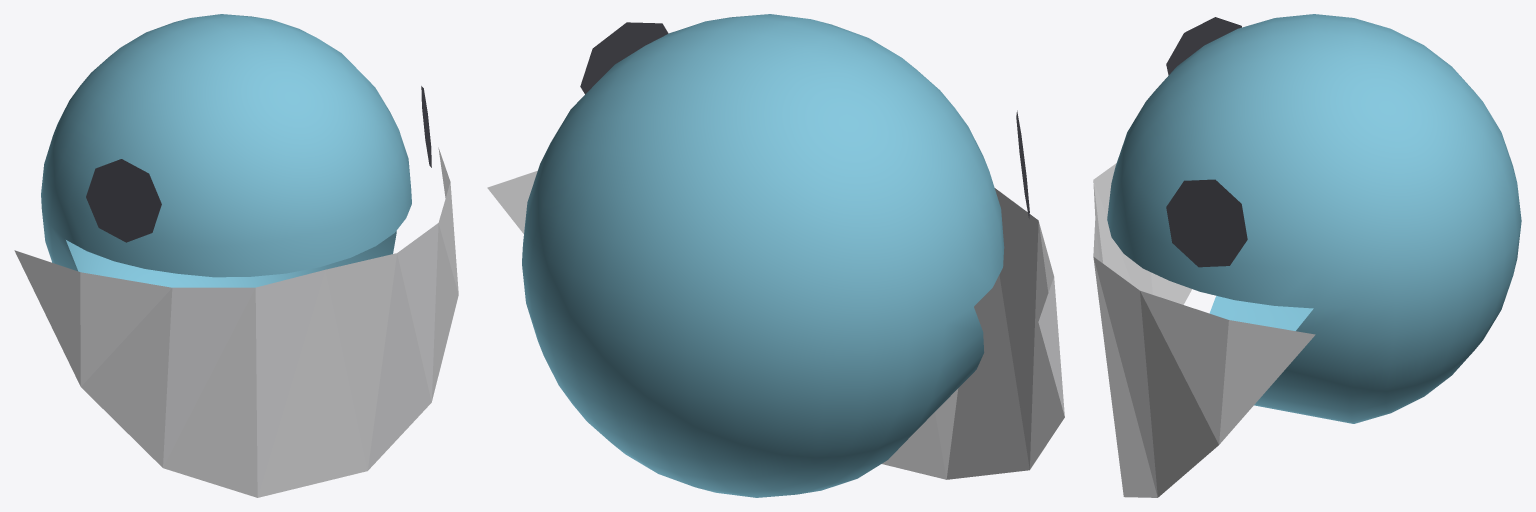
Rendered from bubble.glb.
3 views of the same model, side by side, from view 1: azimuth 30°, elevation 25°; view 2: azimuth 150°, elevation 25°; view 3: azimuth 270°, elevation 25° (orthographic). The views are drawn at different scales.
Visible parts, largest first — view 1: bubble_bubble.001, bubble_teeth, bubble_eyes; view 2: bubble_bubble.001, bubble_teeth, bubble_eyes; view 3: bubble_bubble.001, bubble_teeth, bubble_eyes.
Part boxes in pixels (x1,y1,x2,y2): bubble_bubble.001: [41, 14, 411, 287]; bubble_teeth: [14, 147, 458, 497]; bubble_eyes: [86, 86, 431, 242]; bubble_bubble.001: [522, 14, 1004, 497]; bubble_teeth: [487, 171, 1064, 479]; bubble_eyes: [580, 22, 1029, 218]; bubble_bubble.001: [1107, 14, 1521, 423]; bubble_teeth: [1093, 163, 1315, 497]; bubble_eyes: [1166, 17, 1247, 267].
Bounding box in the file's own units: 0.7574 × 0.6666 × 0.5961.
